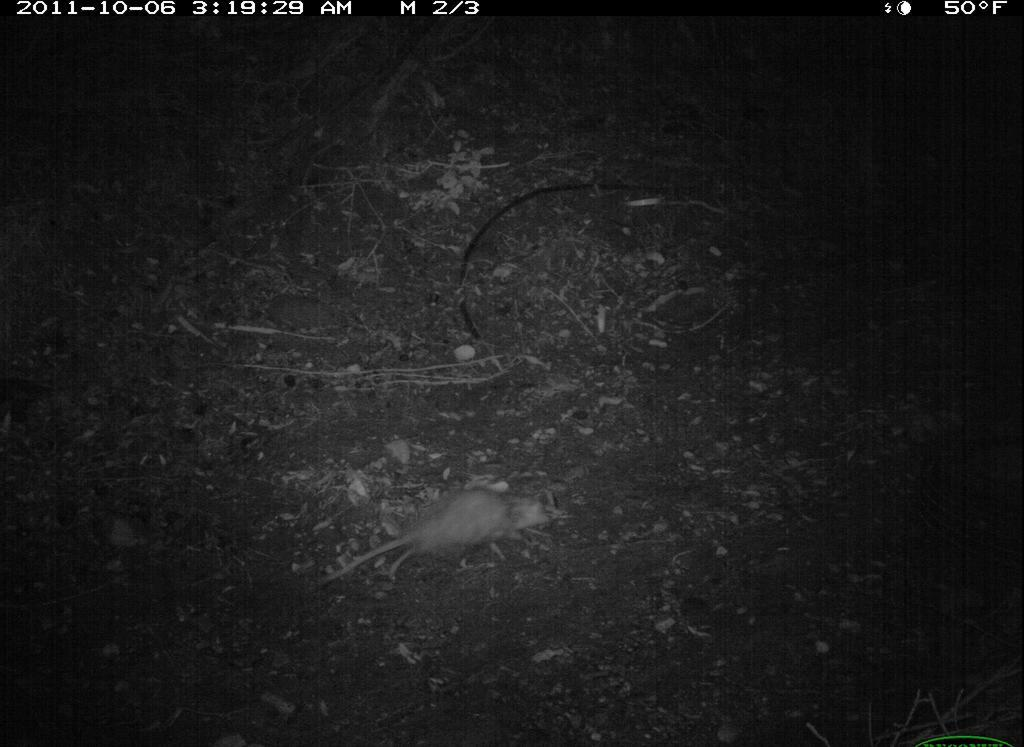opossum: (315, 484, 565, 591)
